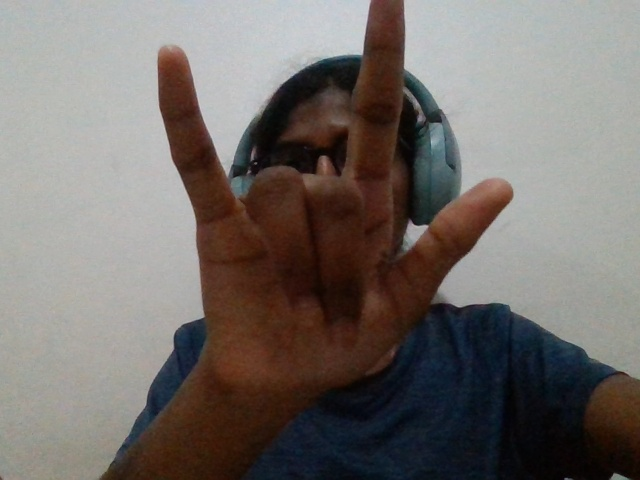I Love You: (127, 3, 539, 450)
